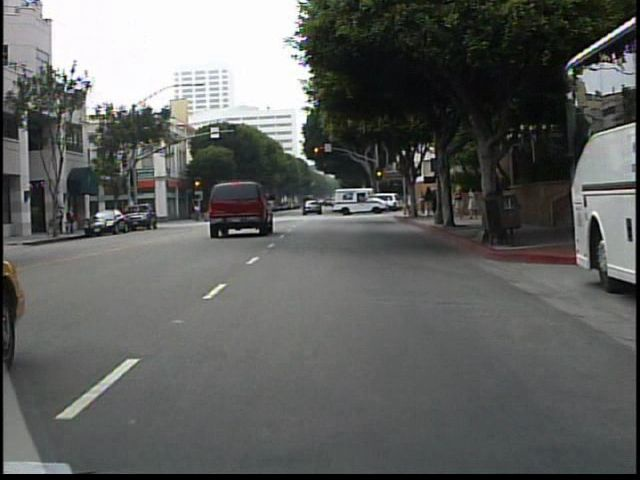person: (467, 181, 480, 223), (453, 183, 467, 221)
